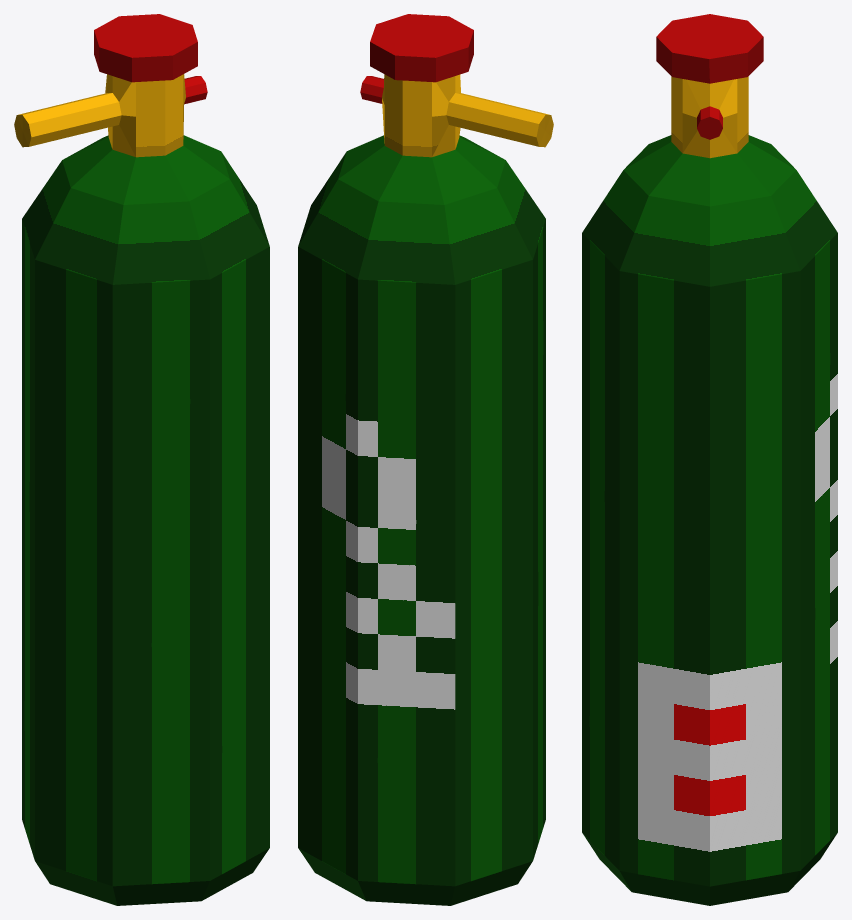
The model's file is Oxygen_Tank.fbx.
3 views of the same model, side by side, from view 1: azimuth 30°, elevation 25°; view 2: azimuth 150°, elevation 25°; view 3: azimuth 270°, elevation 25° (orthographic).
Parts seen in each view (by area): view 1: Oxygen_Tank; view 2: Oxygen_Tank; view 3: Oxygen_Tank.
Part boxes in pixels (x1,y1,x2,y2): Oxygen_Tank: [14, 14, 269, 905]; Oxygen_Tank: [298, 14, 553, 905]; Oxygen_Tank: [582, 14, 837, 905].
Size of the model in its own units: 43.27 by 145 by 40.96.
